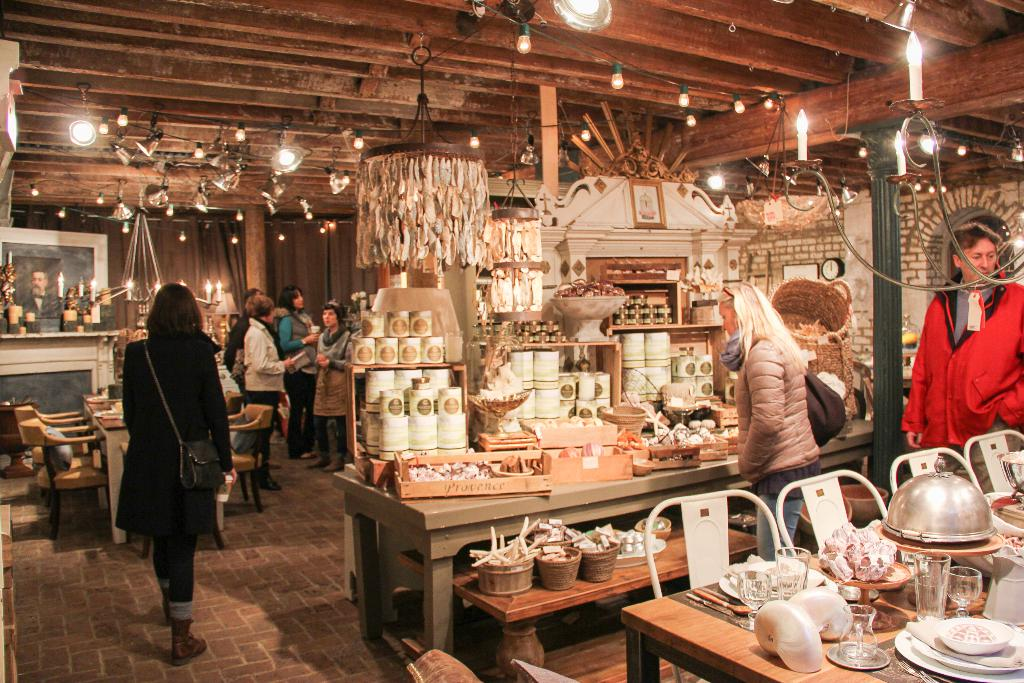Footwear: (174, 618, 206, 666), (318, 457, 344, 471), (259, 475, 280, 491), (308, 457, 330, 467), (301, 451, 316, 457), (269, 461, 281, 467)
